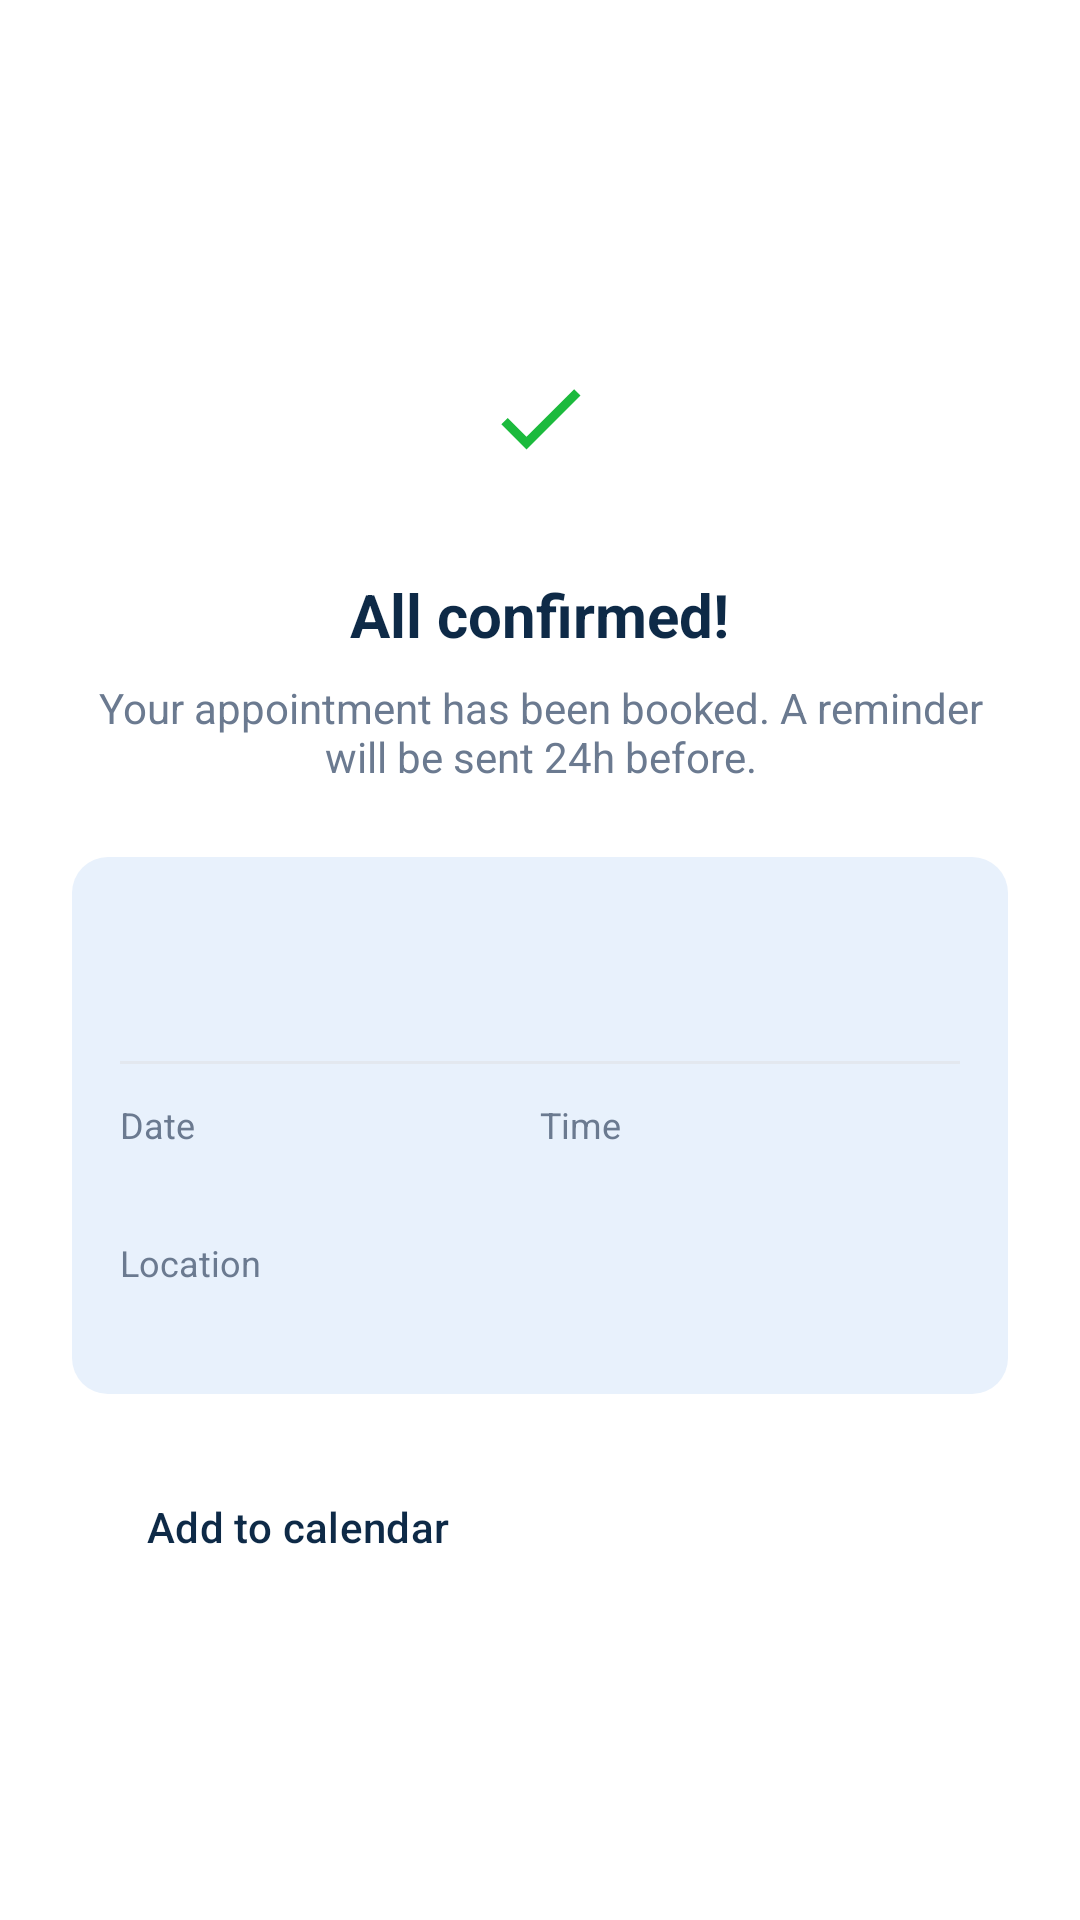

Screen size 1080 × 1920. Icon name, then its box in pixels as {"x1": x1, "y1": y1, "x2": x2, "y2": y2}:
check: {"x1": 501, "y1": 389, "x2": 581, "y2": 450}
